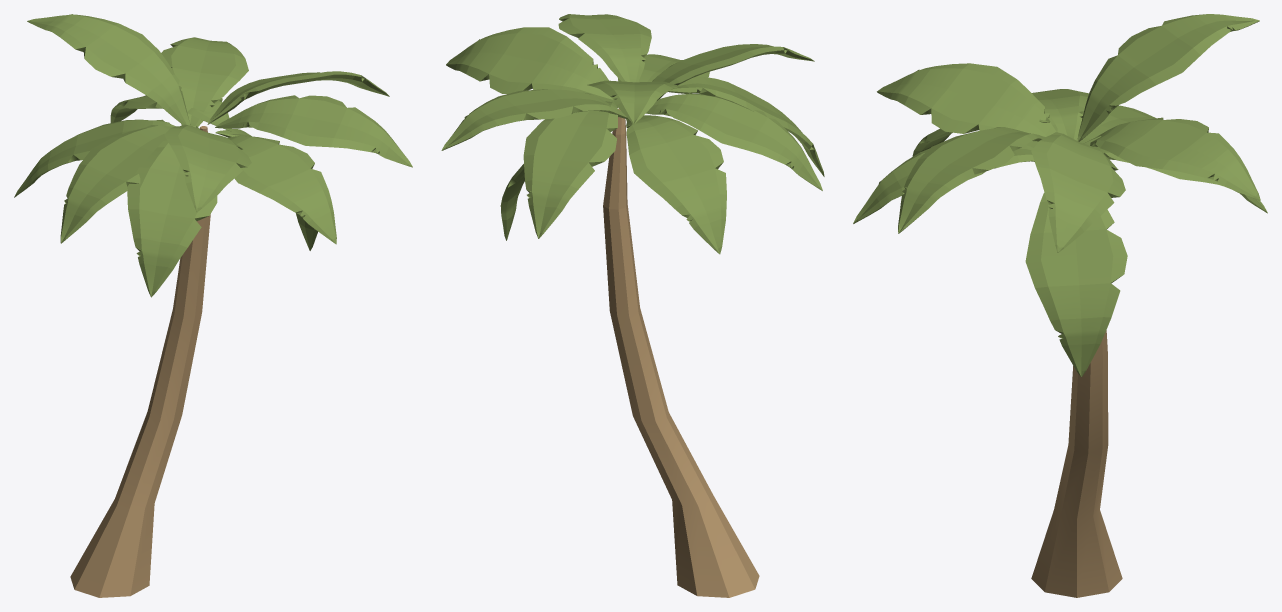
Rendered from atoll_palmTree01.fbx.
The picture shows the model from 3 angles, left to right: view 1: azimuth 30°, elevation 25°; view 2: azimuth 150°, elevation 25°; view 3: azimuth 270°, elevation 25°; orthographic projection. The views are drawn at different scales.
Parts seen in each view (by area): view 1: pasted__TRUNK_2, pasted__LEAF_2, pasted__LEAF_11, pasted__LEAF_3, pasted__LEAF_7, pasted__LEAF_8, pasted__LEAF_6, pasted__LEAF_1, pasted__LEAF_9, pasted__LEAF_4, pasted__LEAF_10, pasted__LEAF_5; view 2: pasted__TRUNK_2, pasted__LEAF_9, pasted__LEAF_4, pasted__LEAF_10, pasted__LEAF_8, pasted__LEAF_6, pasted__LEAF_3, pasted__LEAF_1, pasted__LEAF_2, pasted__LEAF_11, pasted__LEAF_5, pasted__LEAF_7; view 3: pasted__TRUNK_2, pasted__LEAF_5, pasted__LEAF_1, pasted__LEAF_11, pasted__LEAF_6, pasted__LEAF_4, pasted__LEAF_3, pasted__LEAF_7, pasted__LEAF_8, pasted__LEAF_9, pasted__LEAF_10.
Part boxes in pixels (x1,y1,x2,y2): pasted__TRUNK_2: (70, 126, 210, 597); pasted__LEAF_2: (127, 125, 217, 297); pasted__LEAF_11: (27, 14, 190, 125); pasted__LEAF_3: (215, 95, 412, 167); pasted__LEAF_7: (228, 135, 336, 244); pasted__LEAF_8: (60, 125, 173, 243); pasted__LEAF_6: (161, 37, 248, 126); pasted__LEAF_1: (164, 124, 251, 211); pasted__LEAF_9: (14, 119, 175, 197); pasted__LEAF_4: (207, 71, 389, 124); pasted__LEAF_10: (110, 95, 231, 131); pasted__LEAF_5: (215, 129, 317, 250); pasted__TRUNK_2: (603, 108, 759, 597); pasted__LEAF_9: (626, 115, 726, 254); pasted__LEAF_4: (446, 27, 613, 102); pasted__LEAF_10: (523, 101, 617, 238); pasted__LEAF_8: (646, 93, 822, 190); pasted__LEAF_6: (441, 89, 628, 150); pasted__LEAF_3: (558, 14, 651, 82); pasted__LEAF_1: (652, 44, 814, 100); pasted__LEAF_2: (668, 76, 824, 176); pasted__LEAF_11: (587, 80, 682, 124); pasted__LEAF_5: (500, 107, 617, 240); pasted__LEAF_7: (618, 54, 709, 121); pasted__TRUNK_2: (1031, 330, 1122, 597); pasted__LEAF_5: (1025, 193, 1127, 376); pasted__LEAF_1: (877, 63, 1057, 147); pasted__LEAF_11: (1077, 14, 1259, 141); pasted__LEAF_6: (1090, 117, 1260, 200); pasted__LEAF_4: (1031, 132, 1125, 252); pasted__LEAF_3: (898, 127, 1045, 233); pasted__LEAF_7: (853, 145, 1034, 223); pasted__LEAF_8: (1032, 89, 1088, 139); pasted__LEAF_9: (1076, 105, 1155, 143); pasted__LEAF_10: (1084, 135, 1267, 213).
Size of the model in its own units: 73.85 by 104 by 68.81.
